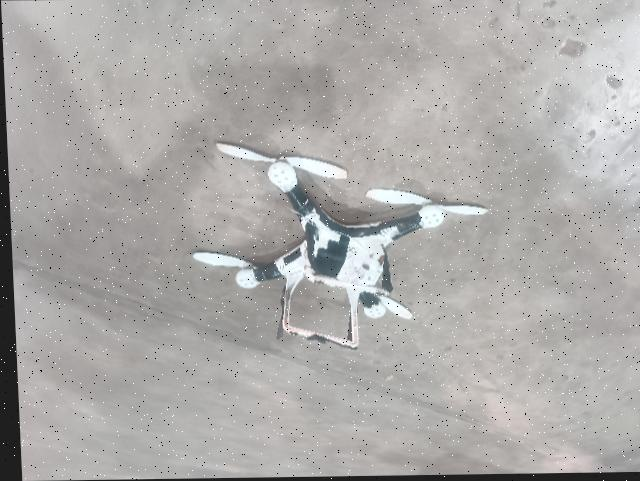drone: (221, 148, 447, 354)
